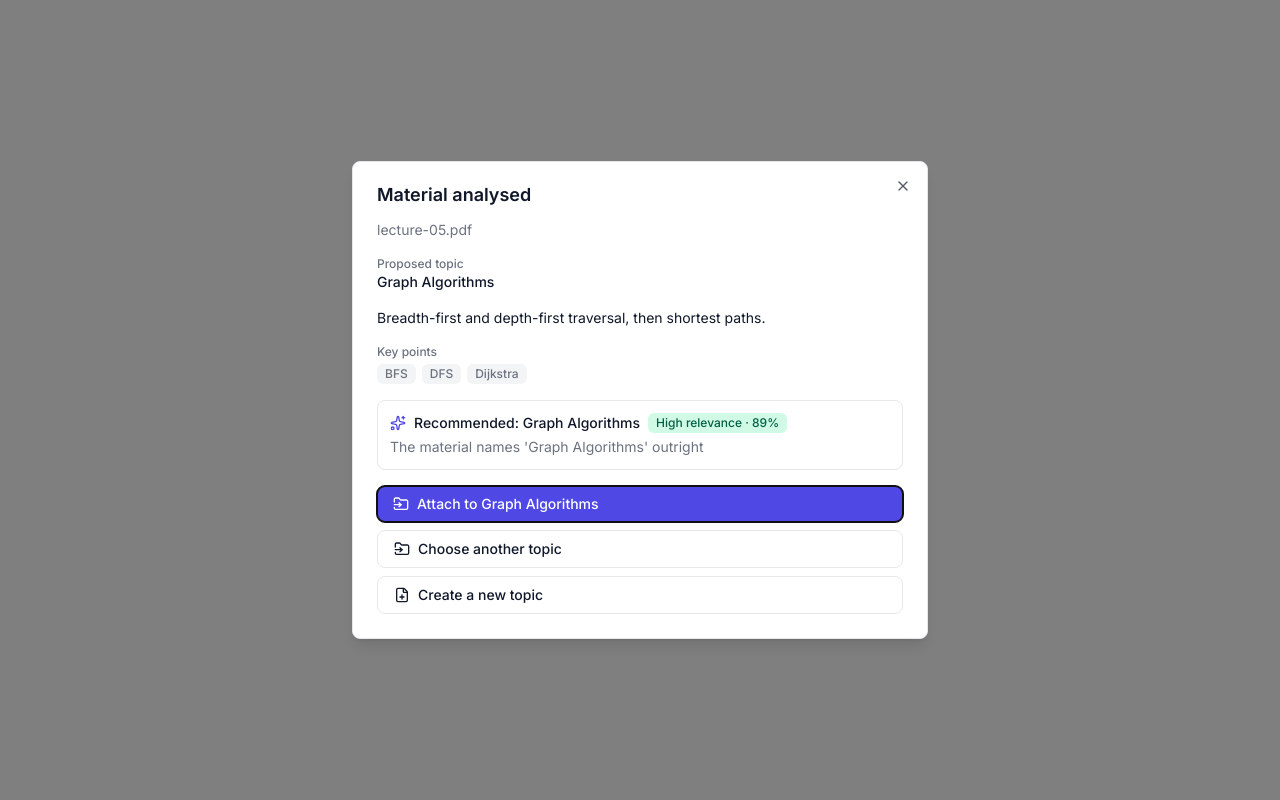
Test case: MaterialDecisionDialog › shows why a confirmation was refused
Click the button "Attach to Graph Algorithms" at [449, 504], box [377, 486, 903, 522]
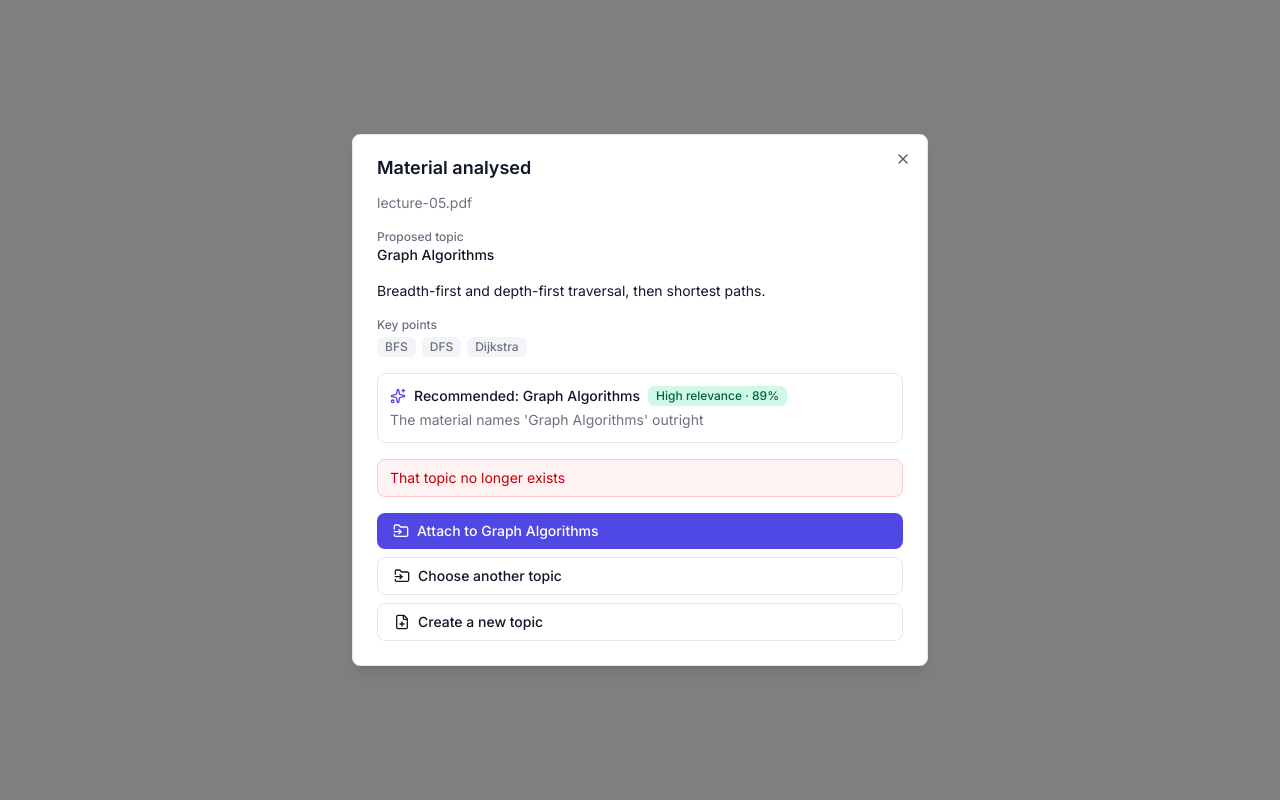
Check: the message reads "That topic no longer exists", box [390, 469, 565, 486]
